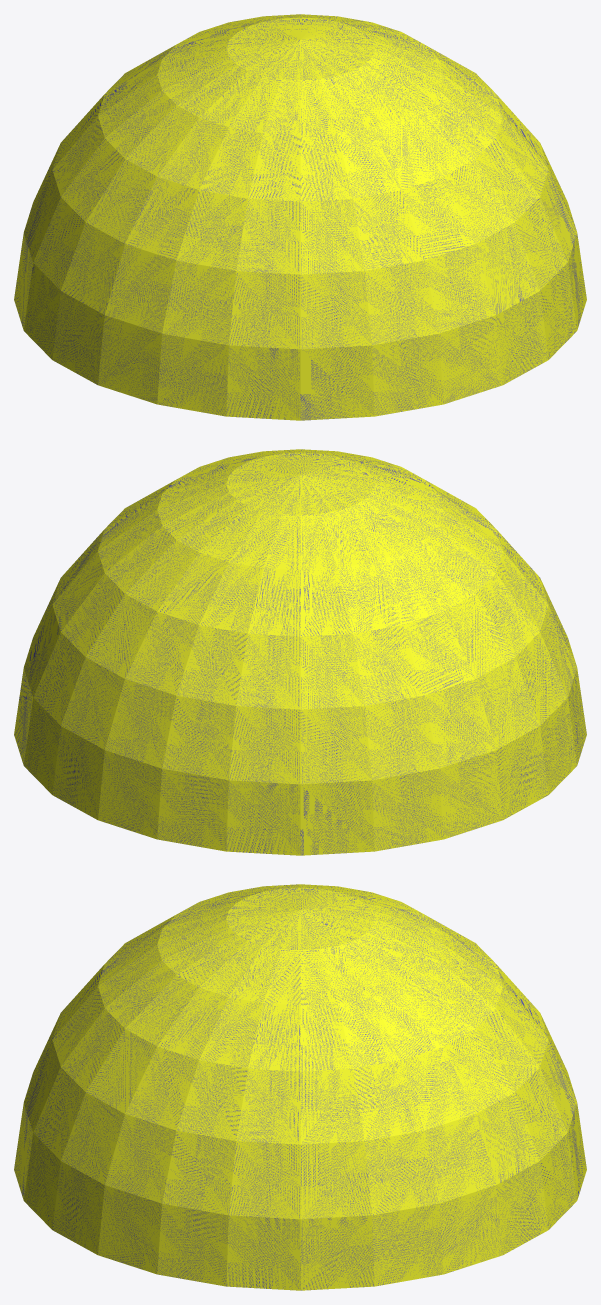
File: blue_75_opacity_dome.dae
3 renders of one model, top to bottom at view 1: azimuth 30°, elevation 25°; view 2: azimuth 150°, elevation 25°; view 3: azimuth 270°, elevation 25°, orthographic.
Visible parts, largest first — view 1: Component1; view 2: Component1; view 3: Component1.
Boxes of the visible parts, box(x1,y1,x2,y2) form: Component1: box(14, 14, 586, 420); Component1: box(14, 449, 586, 855); Component1: box(14, 884, 586, 1290).
Size of the model in its own units: 245371 by 245371 by 132150.
